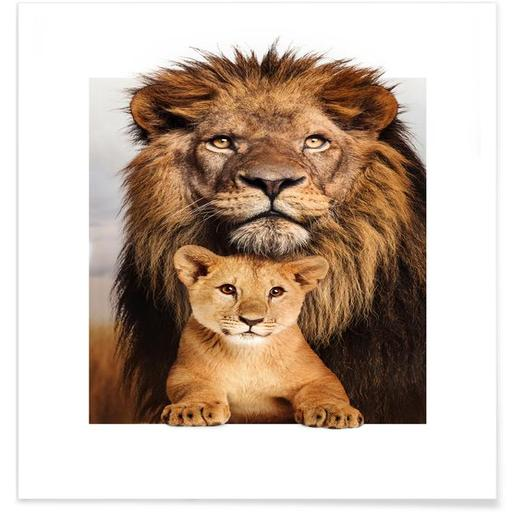Lion: (108, 33, 429, 425), (162, 243, 368, 430)
